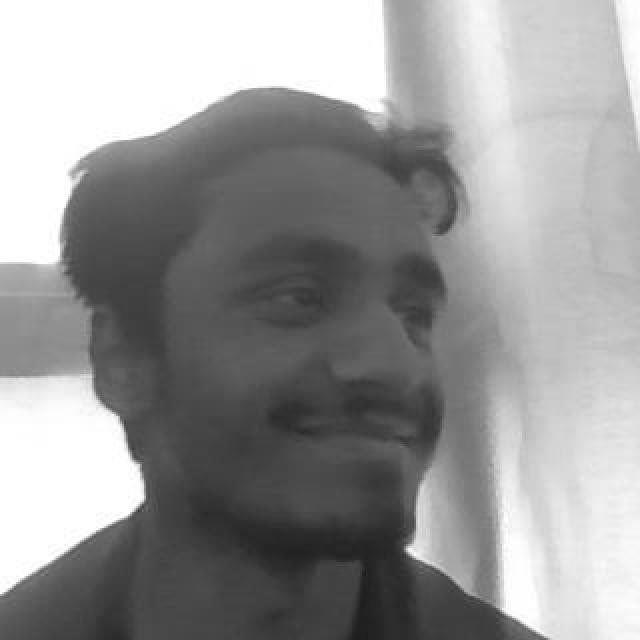Focused: (136, 150, 448, 566)
